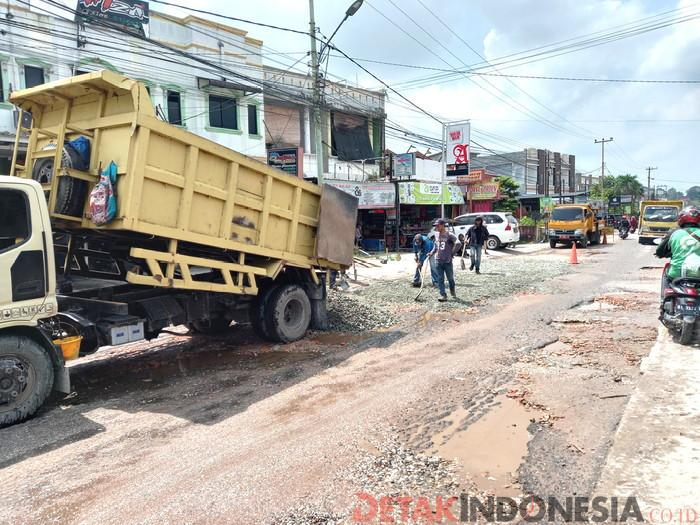Pothole: (426, 372, 552, 507), (531, 277, 669, 376)
